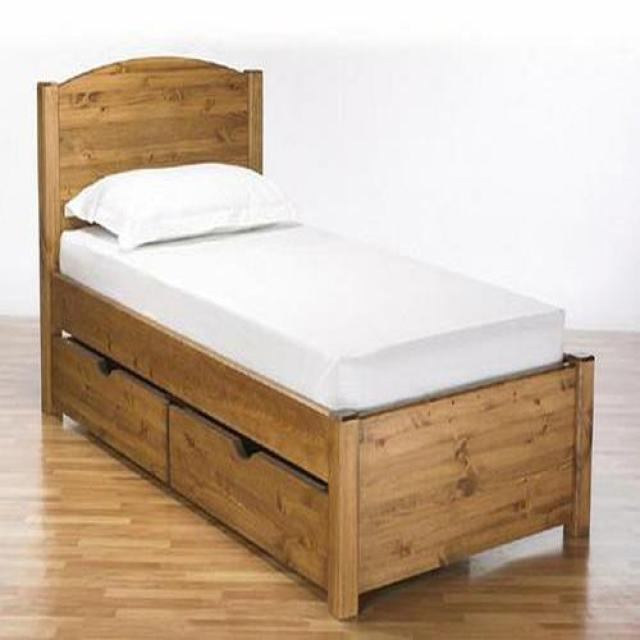bed: (37, 58, 596, 621)
